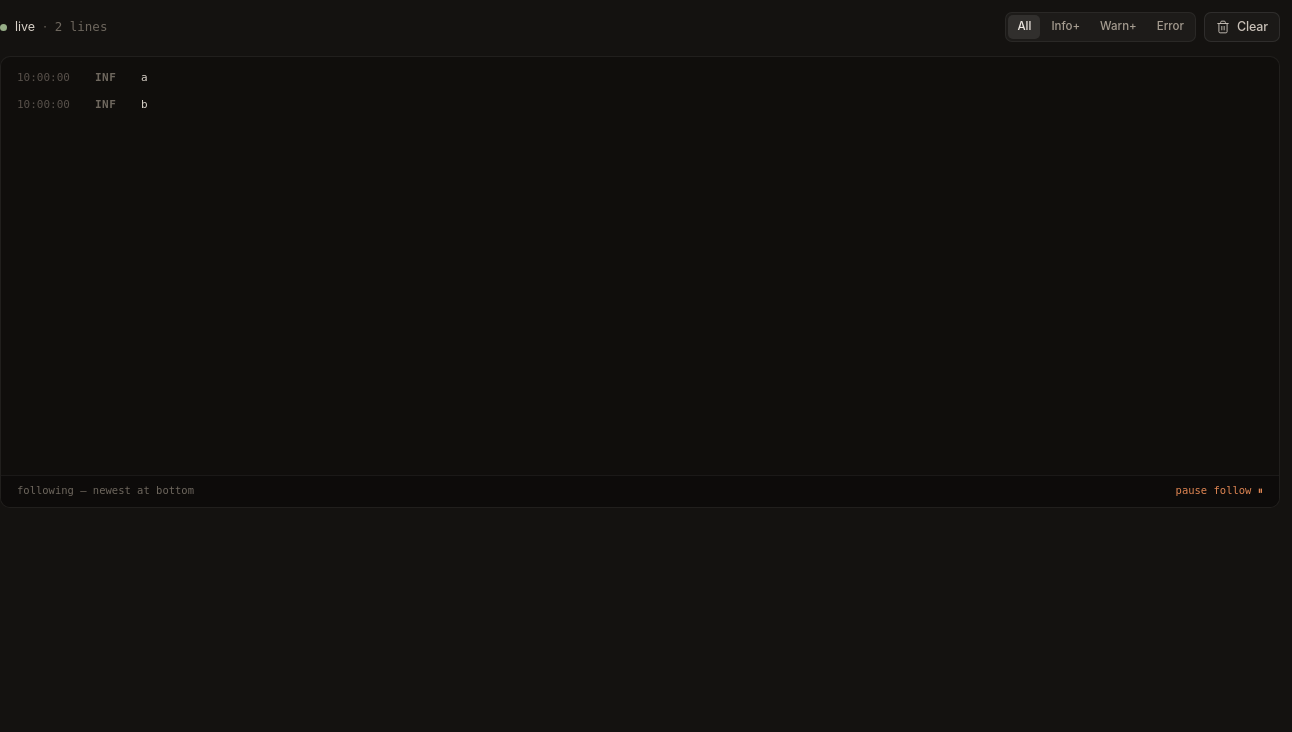
LogsTab › pauses and resumes follow mode from the footer control
Expected: the text "following — newest at bottom" is shown, [17,483,194,499]
Click the button "pause follow ⏸".
click(1219, 491)  # box [1176,483,1263,499]
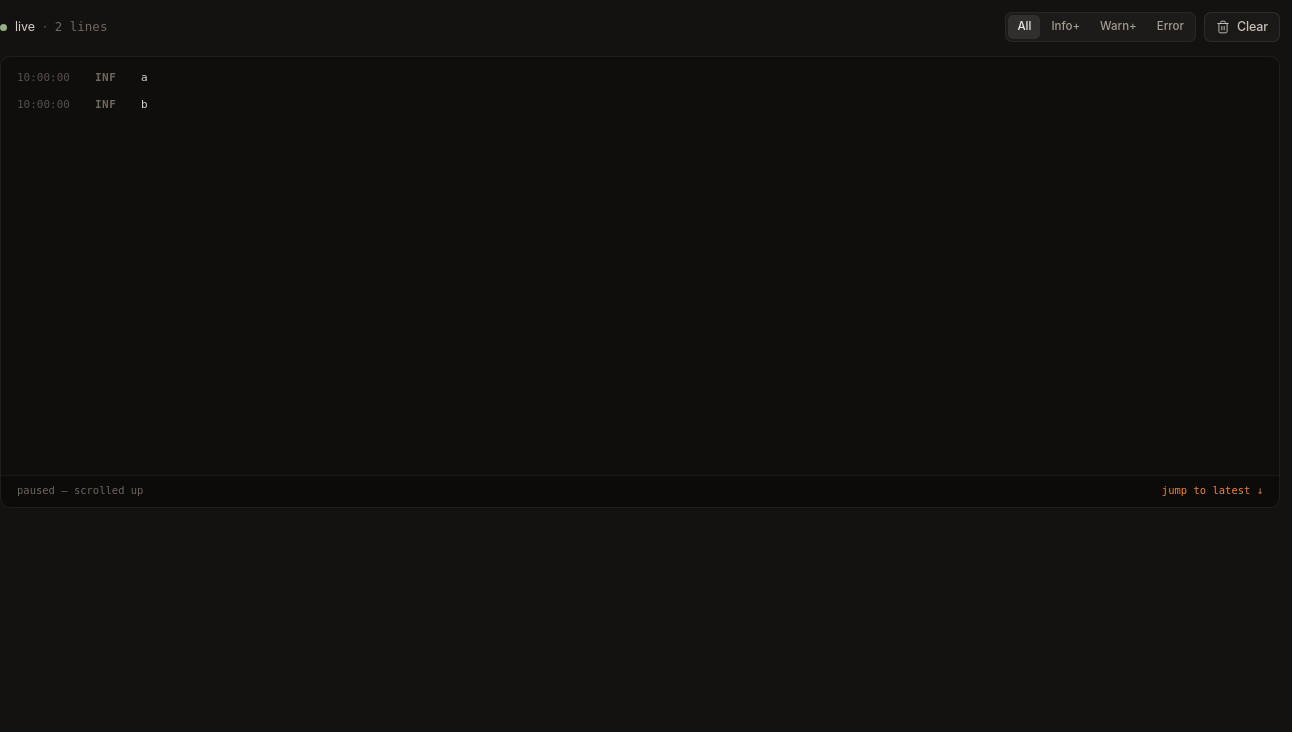
Result: the text "paused — scrolled up" is shown at [17,483,143,499]
Click the button "jump to latest ↓".
click(1212, 491)  # box [1162,483,1263,499]
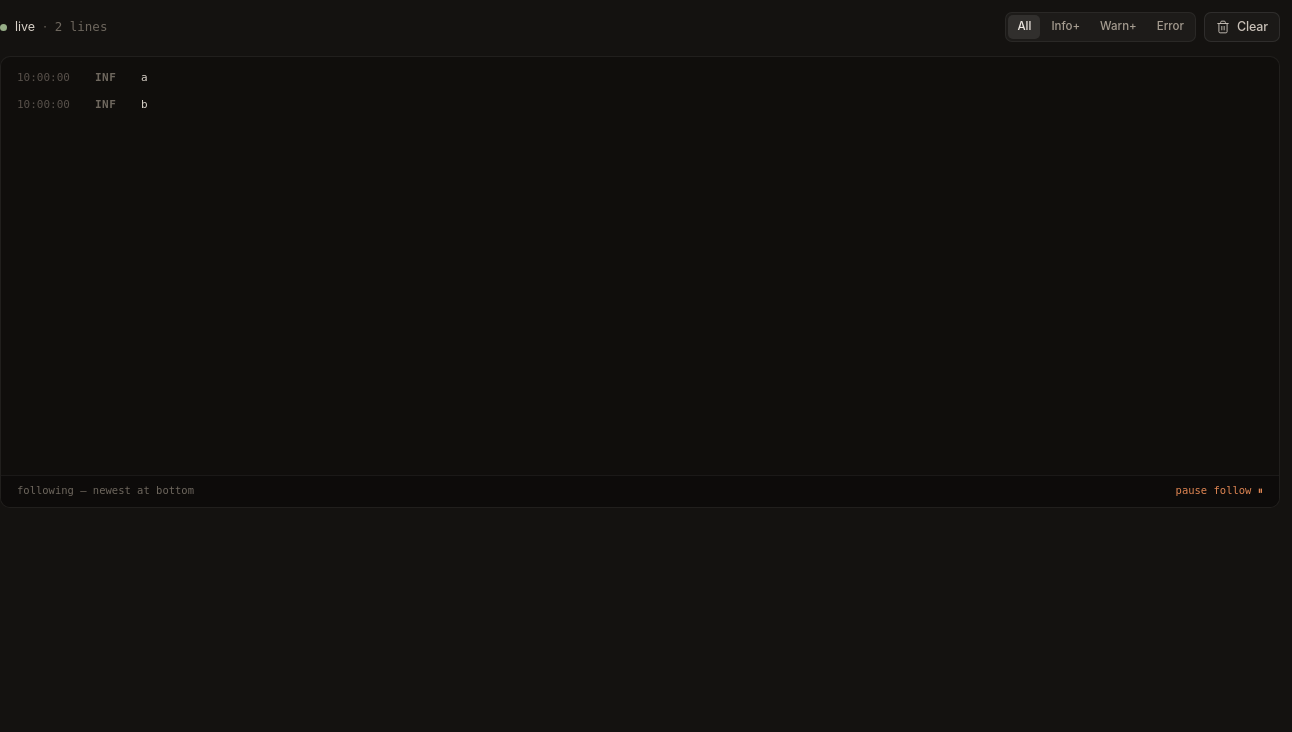
Result: the text "following — newest at bottom" is shown at [17,483,194,499]
